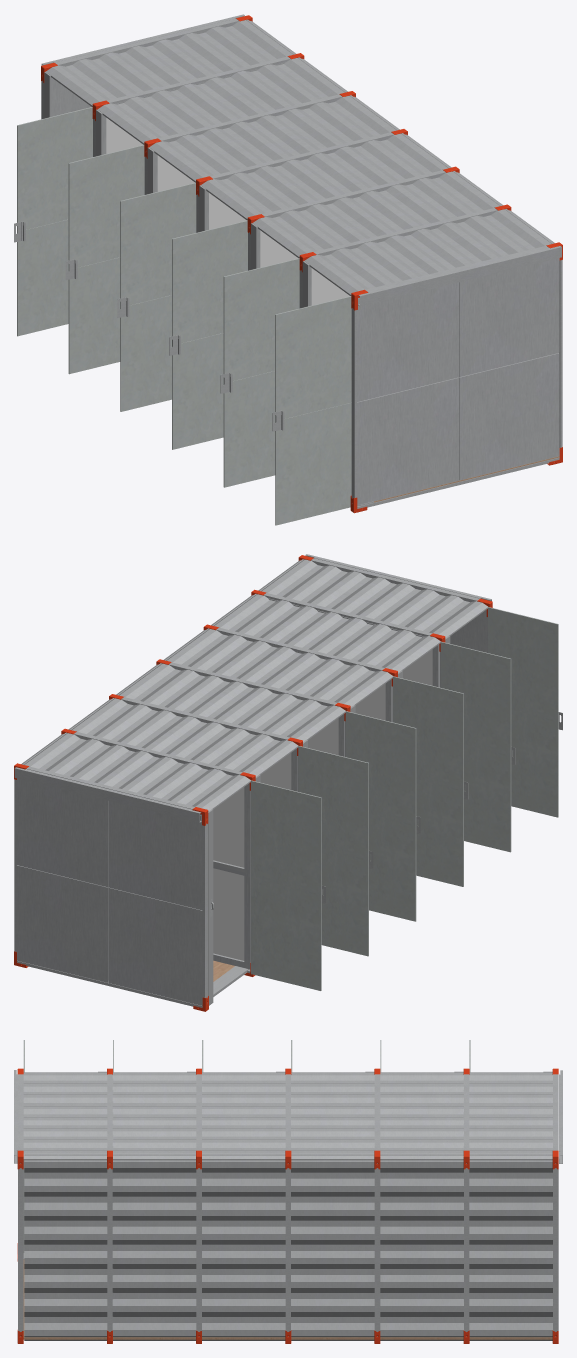
File: 12S6_opened.glb
3 views of the same model, one above another, from view 1: azimuth 30°, elevation 25°; view 2: azimuth 150°, elevation 25°; view 3: azimuth 270°, elevation 25° (orthographic). The views are drawn at different scales.
Visible parts, largest first — view 1: doorsOpenedMarged, celing, Cube.001, frontRim, Wall, gutter, corners, Cube, back; view 2: doorsOpenedMarged, celing, Cube, Wall, frontRim, gutter.001, corners, Cube.001, back; view 3: back, celing, frontRim, corners, floor.002, doorsOpenedMarged.
Boxes of the visible parts, left/top/right/bottom form: doorsOpenedMarged: left=14, top=71, right=351, bottom=525; celing: left=46, top=20, right=554, bottom=295; Cube.001: left=357, top=258, right=559, bottom=506; frontRim: left=41, top=18, right=562, bottom=508; Wall: left=103, top=62, right=349, bottom=305; gutter: left=358, top=246, right=561, bottom=306; corners: left=41, top=15, right=562, bottom=513; Cube: left=51, top=77, right=91, bottom=116; back: left=246, top=19, right=553, bottom=243; doorsOpenedMarged: left=208, top=607, right=562, bottom=1005; celing: left=21, top=559, right=487, bottom=811; Cube: left=16, top=778, right=202, bottom=1005; Wall: left=213, top=598, right=439, bottom=969; frontRim: left=14, top=558, right=487, bottom=1007; gutter.001: left=14, top=767, right=201, bottom=822; corners: left=14, top=555, right=492, bottom=1011; Cube.001: left=450, top=610, right=487, bottom=652; back: left=22, top=559, right=303, bottom=764; back: left=24, top=1154, right=552, bottom=1340; celing: left=23, top=1072, right=552, bottom=1160; frontRim: left=18, top=1074, right=558, bottom=1336; corners: left=17, top=1068, right=558, bottom=1343; floor.002: left=23, top=1259, right=552, bottom=1339; doorsOpenedMarged: left=23, top=1040, right=552, bottom=1252.
Bounding box in the file's own units: 31.87 × 23.06 × 61.09.
Materials: 10 (9 with a texture image).
